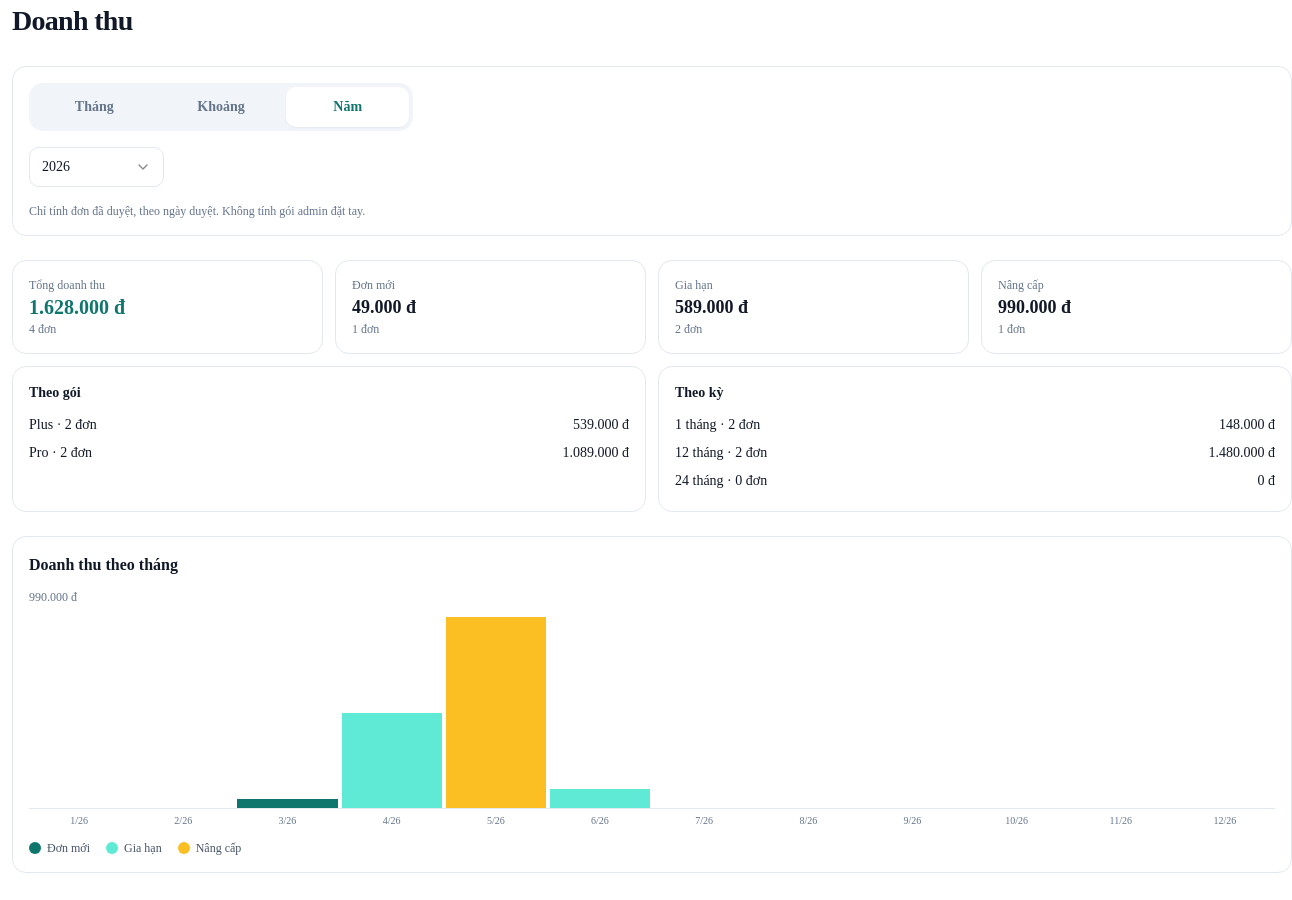
Test: AdminRevenue — số liệu › chế độ Năm có biểu đồ 12 cột (aria-label tiền VN); chế độ Tháng (1 tháng) không có biểu đồ
Expected: the picture named "Tháng 5/2026: 990.000 đ" is shown, top-left (446, 617), bottom-right (546, 808)
Step 1. Click the radio button labelled "Tháng" → (94, 107), box top-left (33, 87), bottom-right (156, 127)
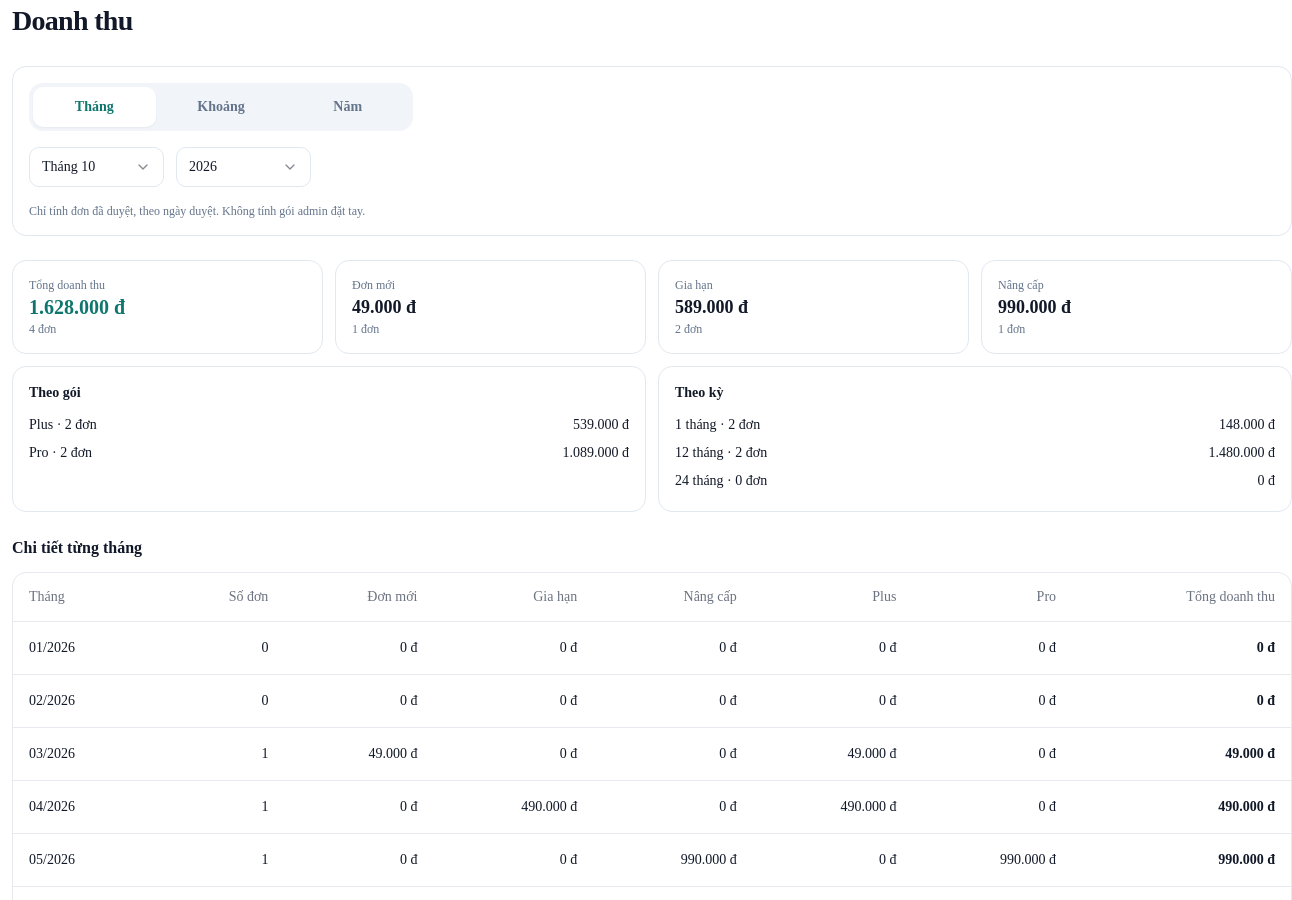
Now the element with test id "revenue-chart" is gone
